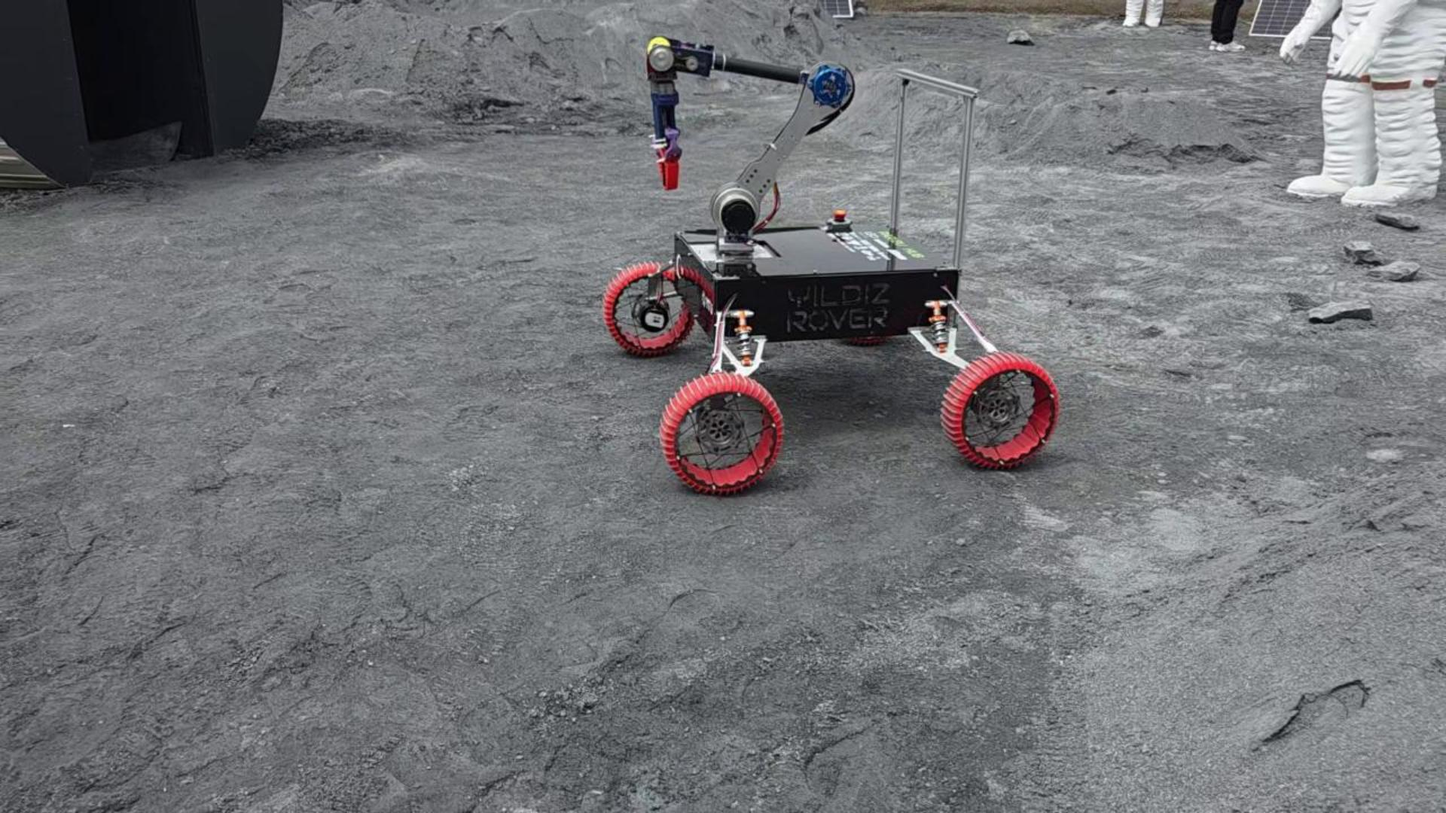rock: (1308, 300, 1371, 323), (1343, 241, 1386, 265), (1368, 261, 1419, 281), (1374, 211, 1419, 230), (1007, 29, 1034, 45)
